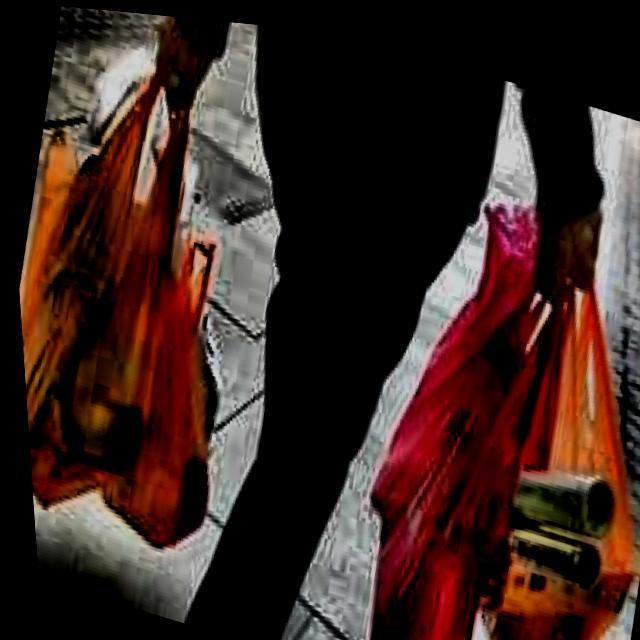Plastic: (2, 36, 295, 591), (317, 167, 566, 640), (440, 244, 640, 640)
